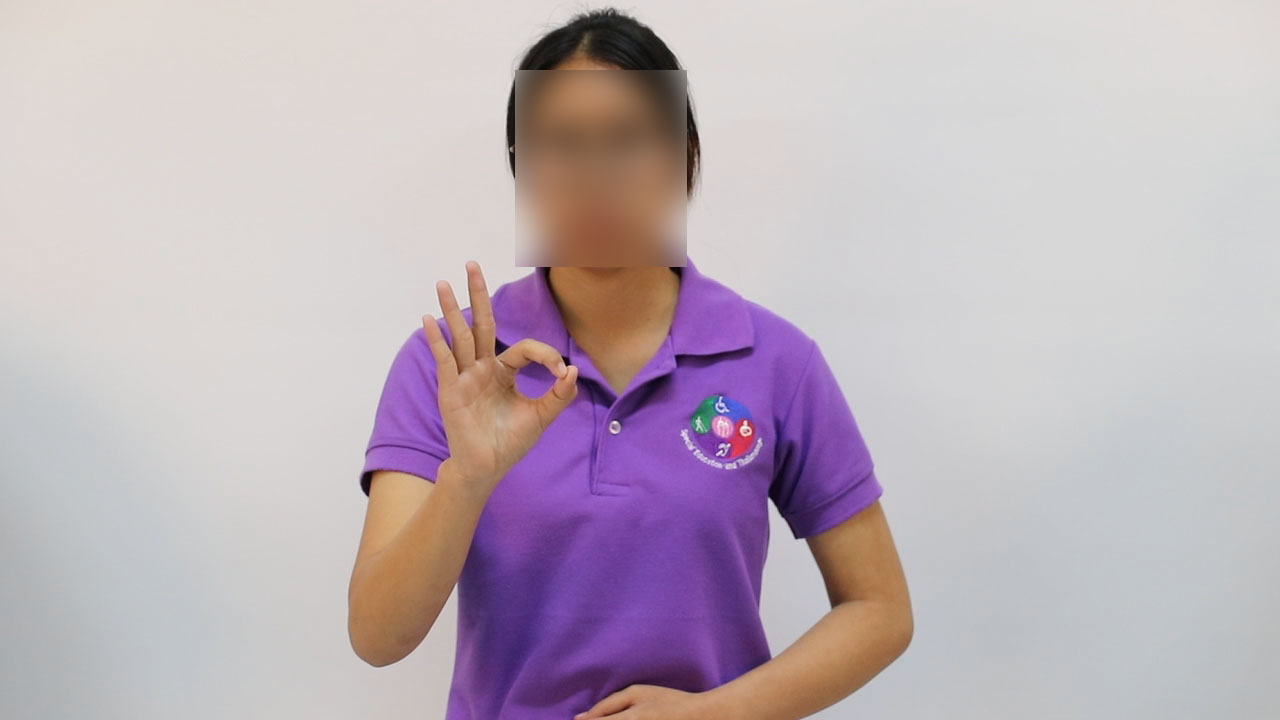for: (416, 253, 585, 486)
